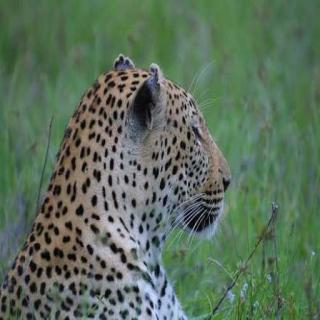Leopard: (4, 42, 232, 320)
